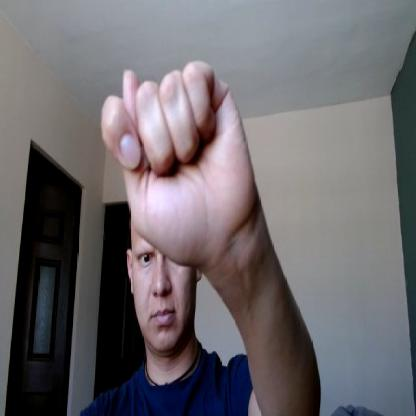T: (100, 57, 244, 267)
